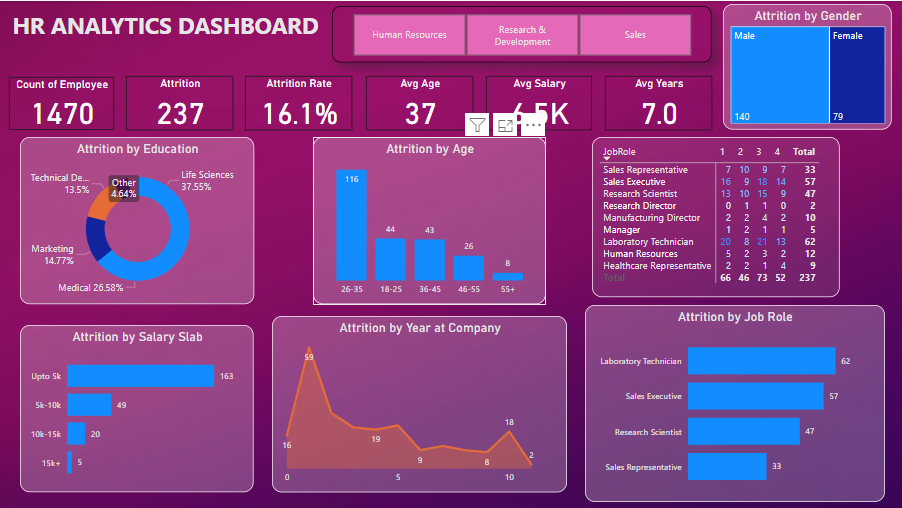

Layout of this report page (visuals, bound fields, positions):
{"tool":"powerbi","page":{"name":"Page 1","canvas":[1280,720],"ordinal":0},"visuals":[{"type":"card","title":"Count of Employee","fields":{"Values":["CountNonNull(HR_Analytics.EmpID)"]},"box":[14.7,107.6,148.9,75.2],"z":0},{"type":"card","title":"Attrition","fields":{"Values":["Sum(HR_Analytics.AttirtionCount)"]},"box":[179.9,106.2,151.9,76.7],"z":1000},{"type":"card","title":"Attrition Rate","fields":{"Values":["HR_Analytics.AttritionRate"]},"box":[348,106.2,151.9,76.7],"z":2000},{"type":"card","title":"Avg Age","fields":{"Values":["Avg(HR_Analytics.Age)"]},"box":[520.5,106.2,151.9,76.7],"z":3000},{"type":"card","title":"Avg Salary","fields":{"Values":["Avg(HR_Analytics.MonthlyIncome)"]},"box":[690.1,106.2,150.4,76.7],"z":4000},{"type":"card","title":"Avg Years","fields":{"Values":["Avg(HR_Analytics.YearsAtCompany)"]},"box":[858.2,106.2,151.9,76.7],"z":5000},{"type":"donutChart","title":"Attrition by Education","fields":{"Category":["HR_Analytics.EducationField"],"Y":["Sum(HR_Analytics.AttirtionCount)"]},"box":[29.5,193.2,331.8,237.4],"z":6000},{"type":"columnChart","title":"Attrition by Age","fields":{"Category":["HR_Analytics.AgeGroup"],"Y":["Sum(HR_Analytics.AttirtionCount)"]},"box":[445.3,193.2,330.3,237.4],"z":7000},{"type":"pivotTable","fields":{"Rows":["HR_Analytics.JobRole"],"Columns":["HR_Analytics.JobSatisfaction"],"Values":["Sum(HR_Analytics.AttirtionCount)"]},"box":[840.5,193.2,351,227.1],"z":8000},{"type":"barChart","title":"Attrition by Salary Slab","fields":{"Category":["HR_Analytics.SalarySlab"],"Y":["Sum(HR_Analytics.AttirtionCount)"]},"box":[29.4,459.6,331.4,237.1],"z":9000},{"type":"barChart","title":"Attrition by Job Role","fields":{"Category":["HR_Analytics.JobRole"],"Y":["Sum(HR_Analytics.AttirtionCount)"]},"box":[830.2,430.6,424.7,278.7],"z":10000},{"type":"areaChart","title":"Attrition by Year at Company","fields":{"Category":["HR_Analytics.YearsAtCompany"],"Y":["Sum(HR_Analytics.AttirtionCount)"]},"box":[387.4,446.3,418.3,250.4],"z":11000},{"type":"treemap","title":"Attrition by Gender","fields":{"Group":["HR_Analytics.Gender"],"Values":["Sum(HR_Analytics.AttirtionCount)"]},"box":[1026.3,4.4,238.9,178.4],"z":12000},{"type":"slicer","fields":{"Values":["HR_Analytics.Department"]},"box":[471.9,7.4,538.2,79.6],"z":12001},{"type":"textbox","box":[14.7,7.4,457.1,66.3],"z":12002}]}

Visuals, with their boxes in screenshot pixels (x1, y1, x2, y2), scaled from the page's 1280x720 canvas onto the 902x508 screenshot:
"Count of Employee" card: box=[10, 76, 115, 129]
"Attrition" card: box=[127, 75, 234, 129]
"Attrition Rate" card: box=[245, 75, 352, 129]
"Avg Age" card: box=[367, 75, 474, 129]
"Avg Salary" card: box=[486, 75, 592, 129]
"Avg Years" card: box=[605, 75, 712, 129]
"Attrition by Education" donutChart: box=[21, 136, 255, 304]
"Attrition by Age" columnChart: box=[314, 136, 547, 304]
pivotTable - HR_Analytics.JobRole x HR_Analytics.JobSatisfaction: box=[592, 136, 840, 297]
"Attrition by Salary Slab" barChart: box=[21, 324, 254, 492]
"Attrition by Job Role" barChart: box=[585, 304, 884, 500]
"Attrition by Year at Company" areaChart: box=[273, 315, 568, 492]
"Attrition by Gender" treemap: box=[723, 3, 892, 129]
slicer - HR_Analytics.Department: box=[333, 5, 712, 61]
textbox: box=[10, 5, 332, 52]
